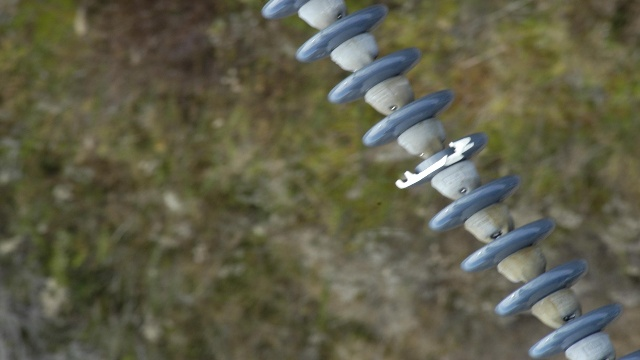broken_local: (390, 137, 477, 191)
insulator_unspecified: (259, 0, 638, 358)
